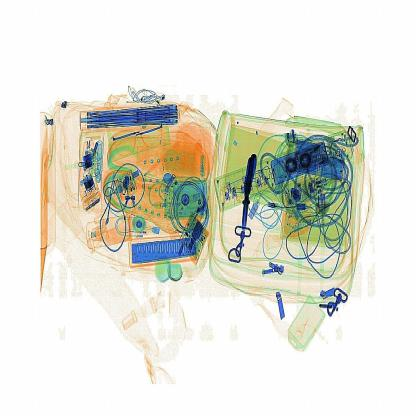gun: (238, 142, 261, 252)
